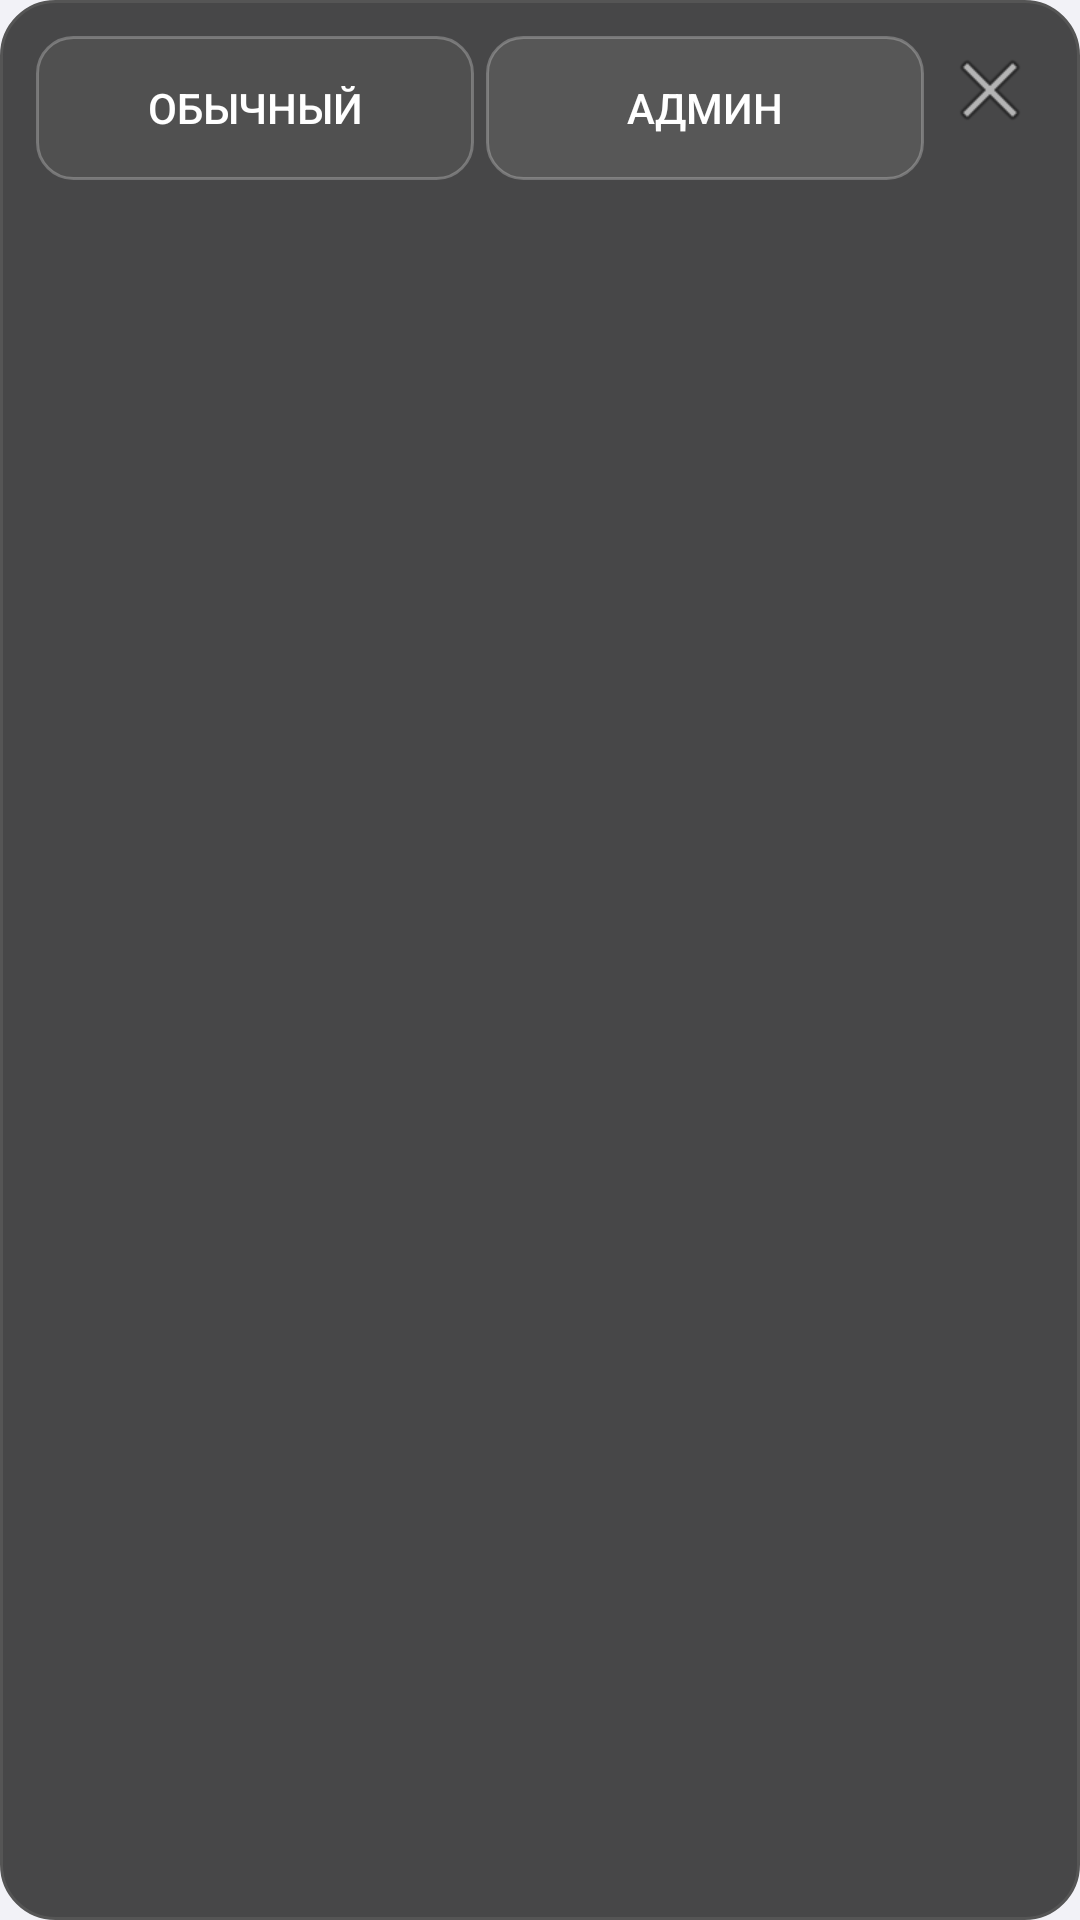

Locate icon controls on the screen. Image size 1080 x 1920, boxes as (x1, y1, x2, y2).
close clear cancel: (961, 61, 1019, 119)
